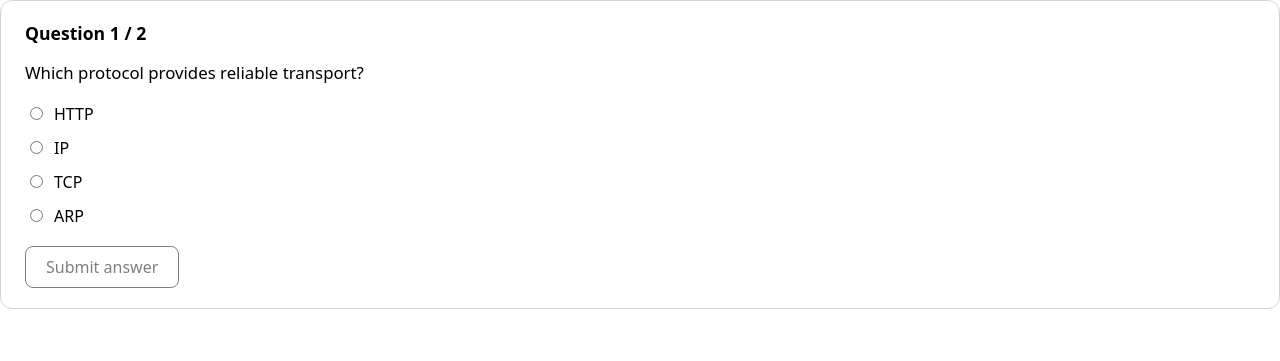
Test: Quiz › surfaces a backend error when answering fails
Click the radio button labelled "TCP" at (36, 182), box 30,175 -> 43,188
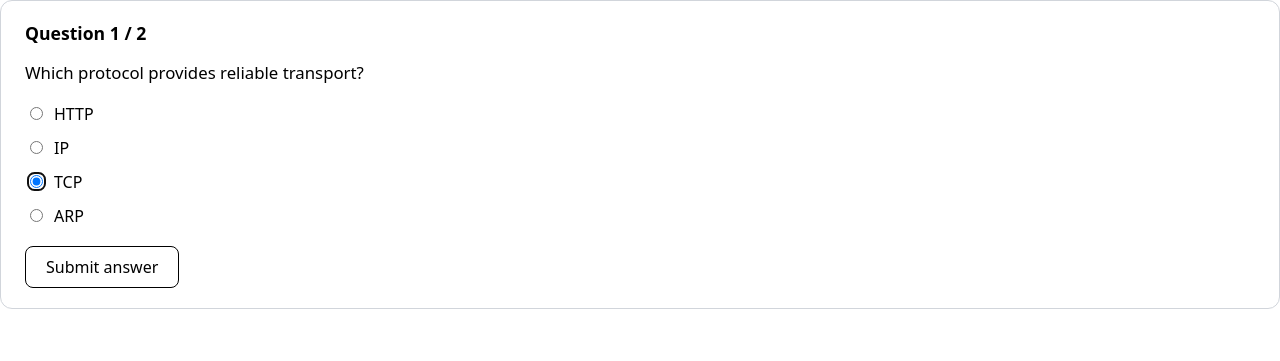
Click the button "Submit answer" at (102, 267), box 25,246 -> 179,288
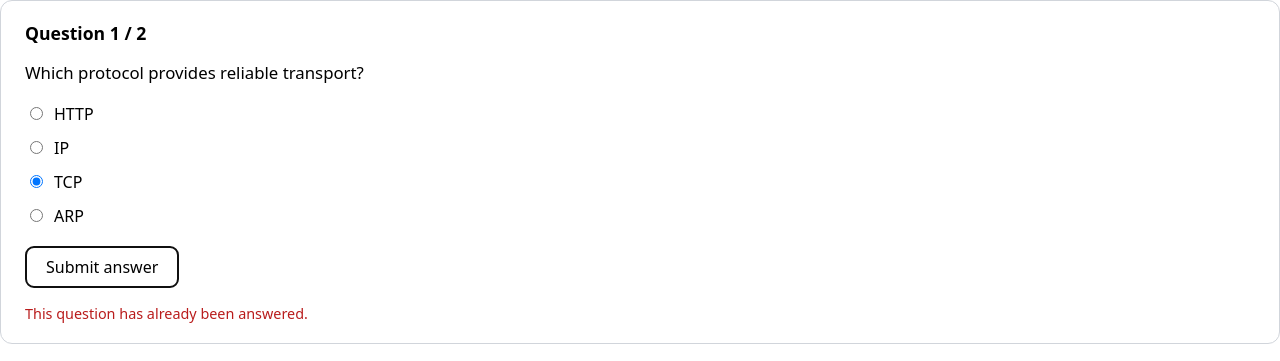
Check: the message shows "already been answered", box 25,304 -> 308,323
